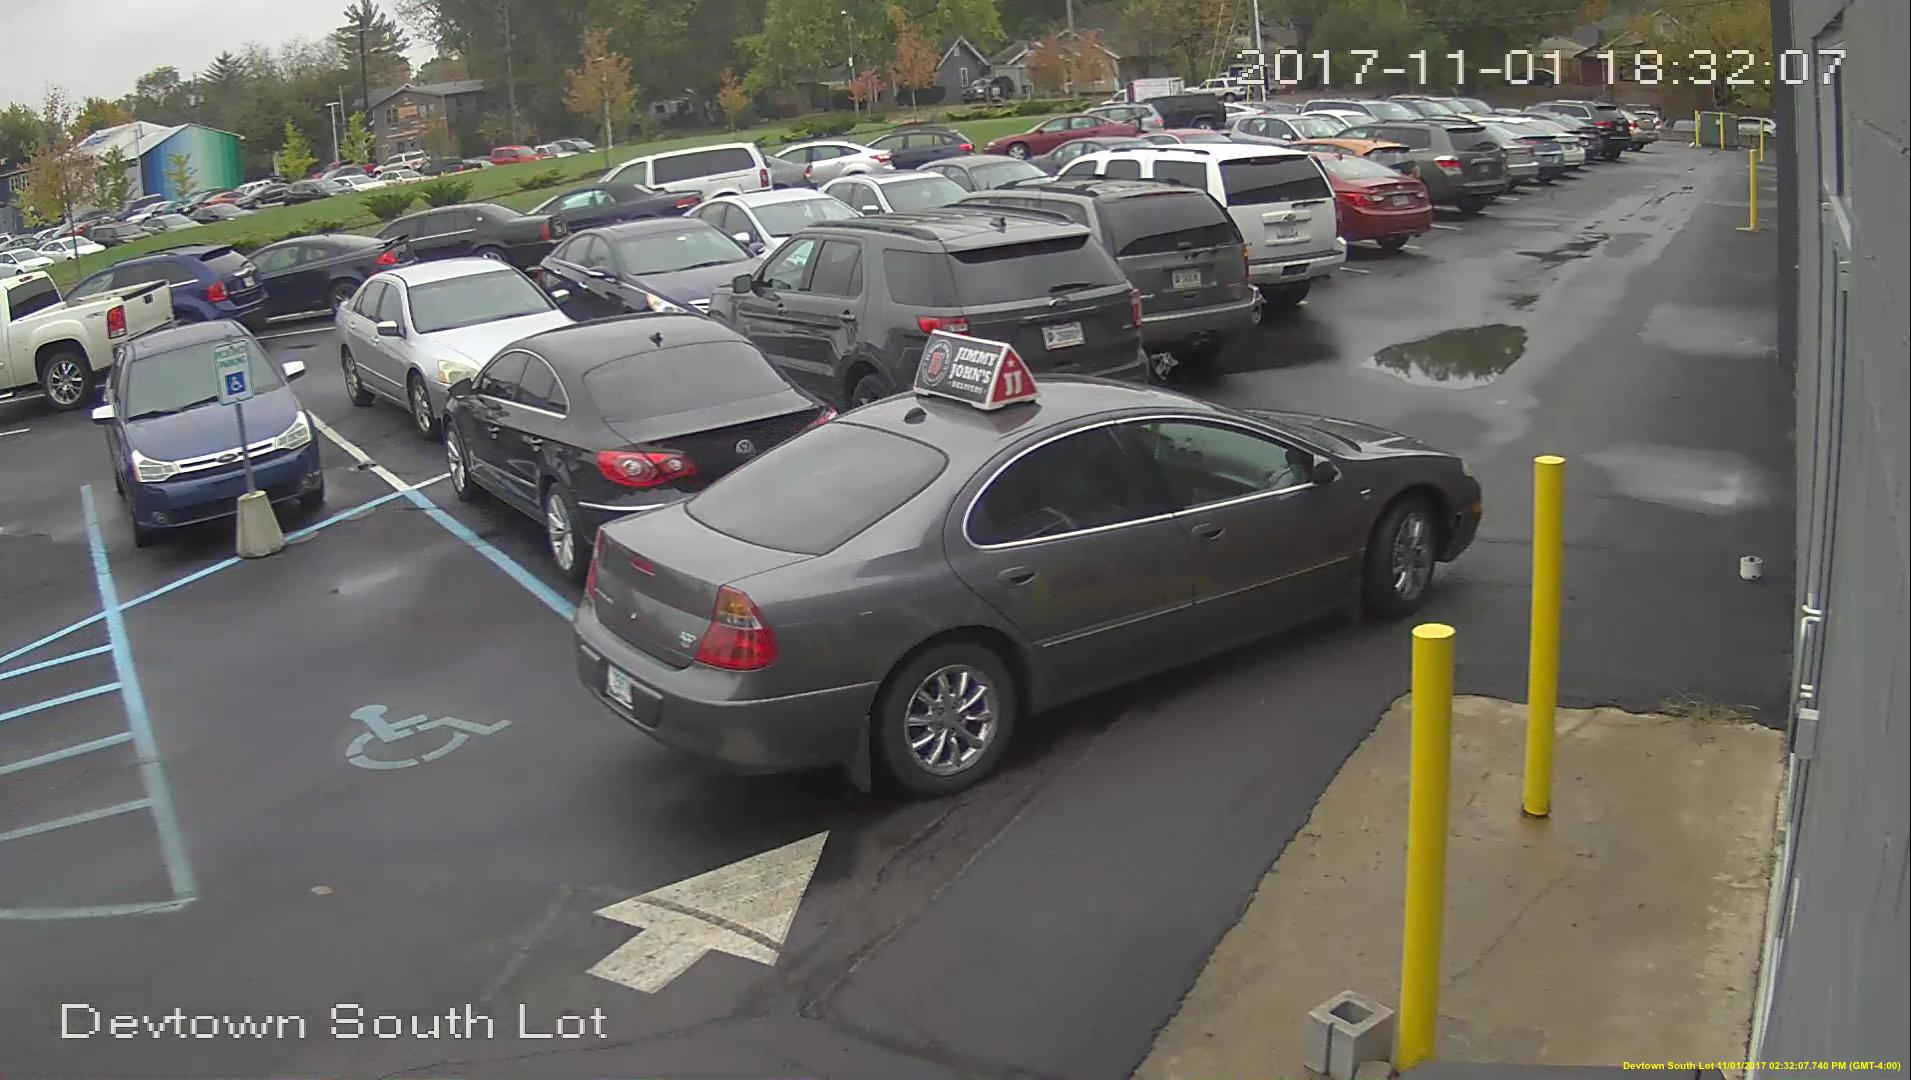jimmy_johns: (907, 325, 1042, 419)
